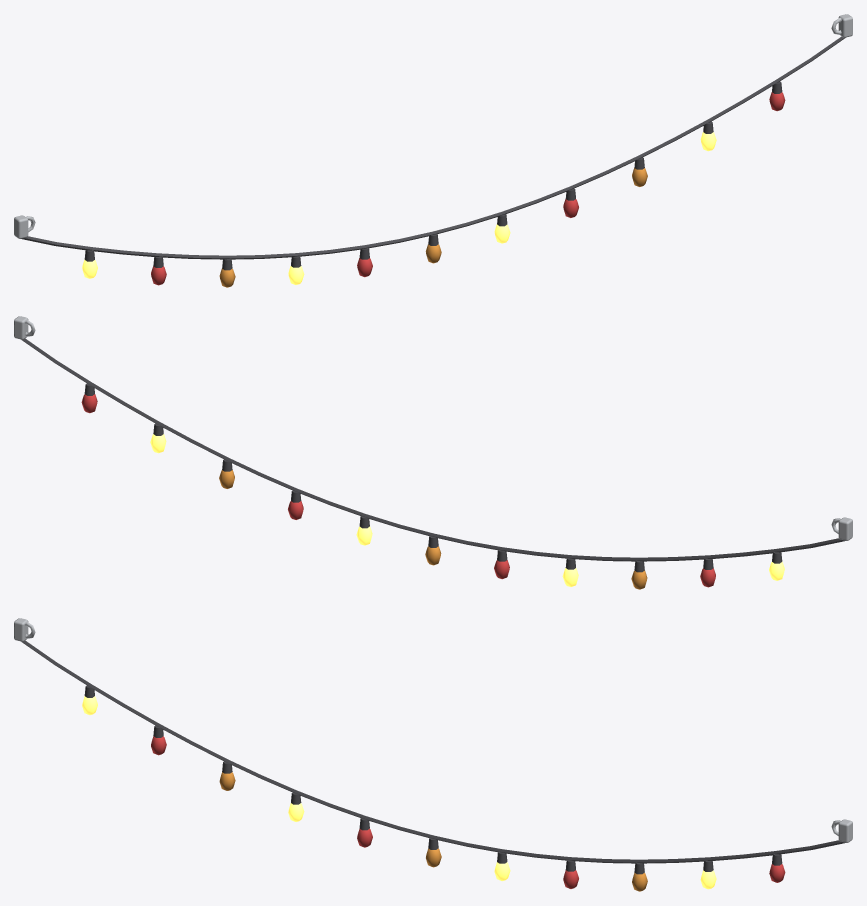
File: halloween-slasher-street-string-lights-run-b8b9a1e6__27310.glb
3 views of the same model, one above another, from view 1: azimuth 30°, elevation 25°; view 2: azimuth 150°, elevation 25°; view 3: azimuth 330°, elevation 25° (orthographic).
Visible parts, largest first — view 1: string-lights-run; view 2: string-lights-run; view 3: string-lights-run.
Boxes of the visible parts, x1,y1,x2,y2 form: string-lights-run: (14,14,852,287); string-lights-run: (14,316,852,589); string-lights-run: (14,618,852,891).
Size of the model in its own units: 4.05 by 0.6799 by 0.0681.
